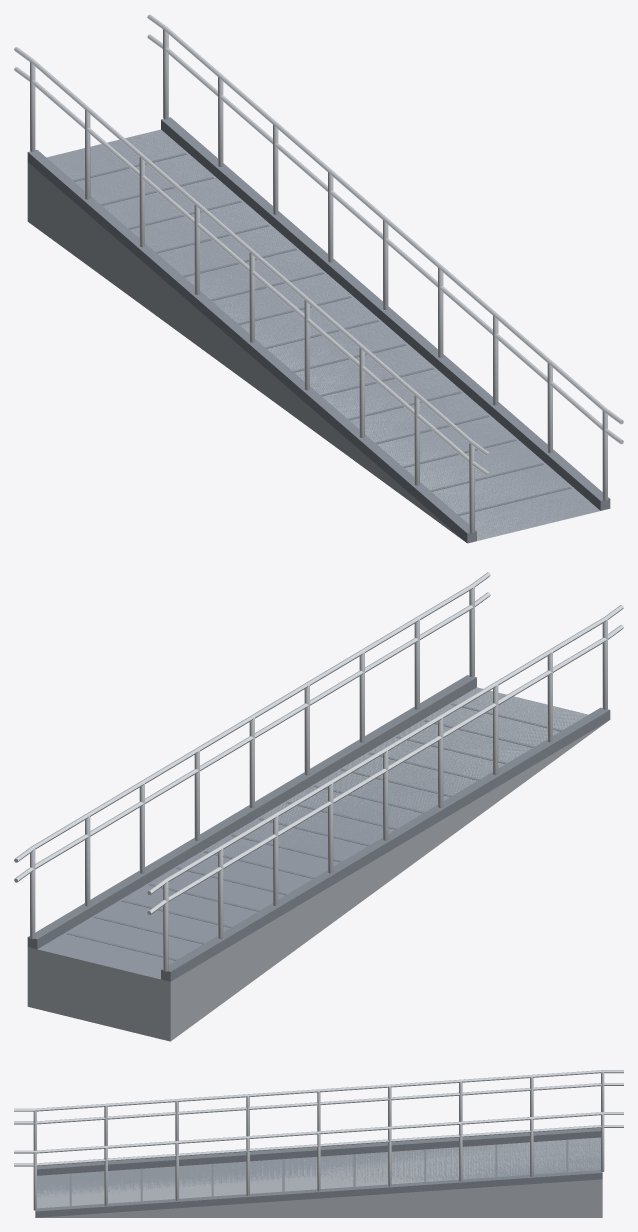
File: rampa_h60.glb
3 views of the same model, one above another, from view 1: azimuth 30°, elevation 25°; view 2: azimuth 150°, elevation 25°; view 3: azimuth 270°, elevation 25° (orthographic). The views are drawn at different scales.
Visible parts, largest first — view 1: rampa_h60, colisao_malha; view 2: rampa_h60, colisao_malha; view 3: rampa_h60, colisao_malha.
Part boxes in pixels (x1,y1,x2,y2): rampa_h60: (14,14,623,543); colisao_malha: (46,129,599,540); rampa_h60: (14,572,623,1041); colisao_malha: (38,687,586,979); rampa_h60: (14,1070,623,1217); colisao_malha: (37,1138,600,1198).
Size of the model in its own units: 1.5 by 1.62 by 8.6.
Materials: 1 (1 with a texture image).
